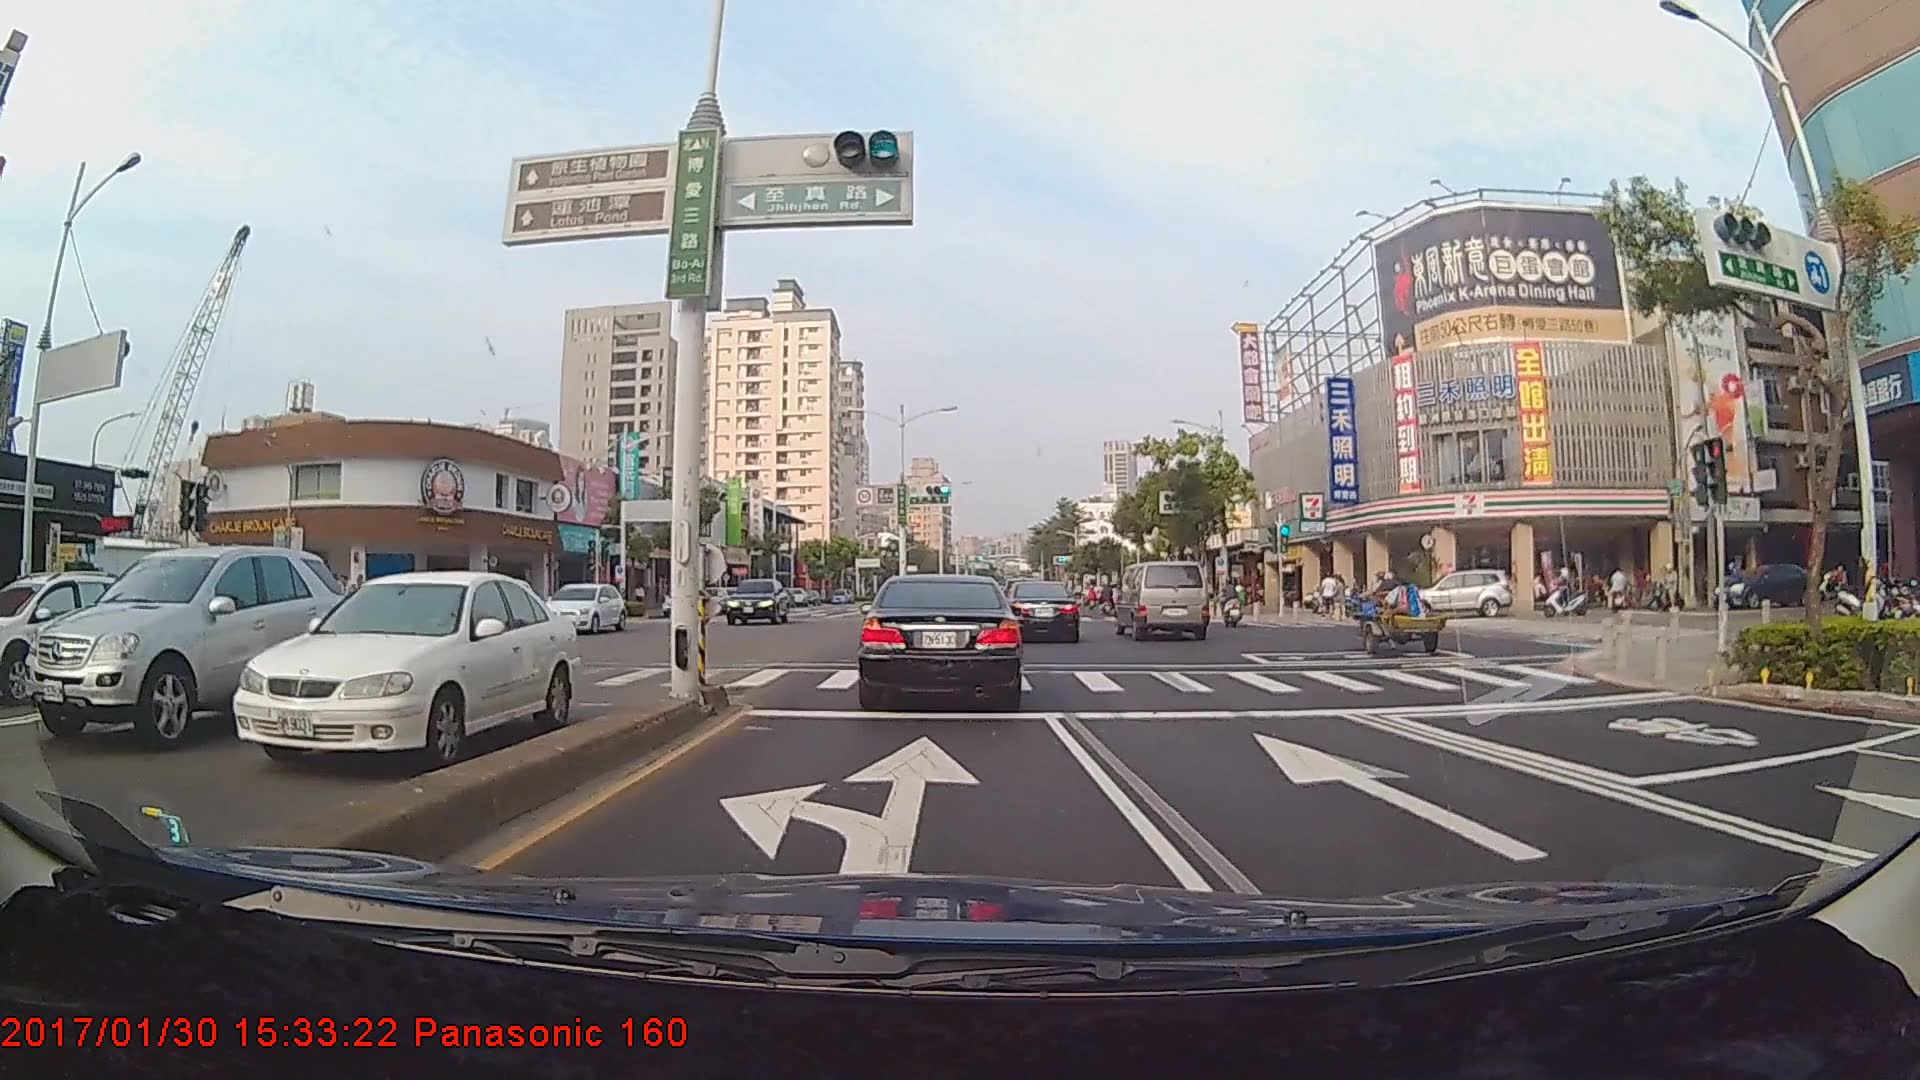pedestrian: (1319, 570, 1339, 620)
rider: (1537, 561, 1595, 622), (1212, 579, 1249, 632)
vehicle: (213, 565, 558, 778), (36, 539, 331, 745), (859, 572, 1021, 704), (0, 564, 150, 706), (1118, 560, 1211, 642), (1401, 569, 1512, 618), (1002, 580, 1081, 643), (539, 580, 624, 636), (723, 577, 790, 626)
